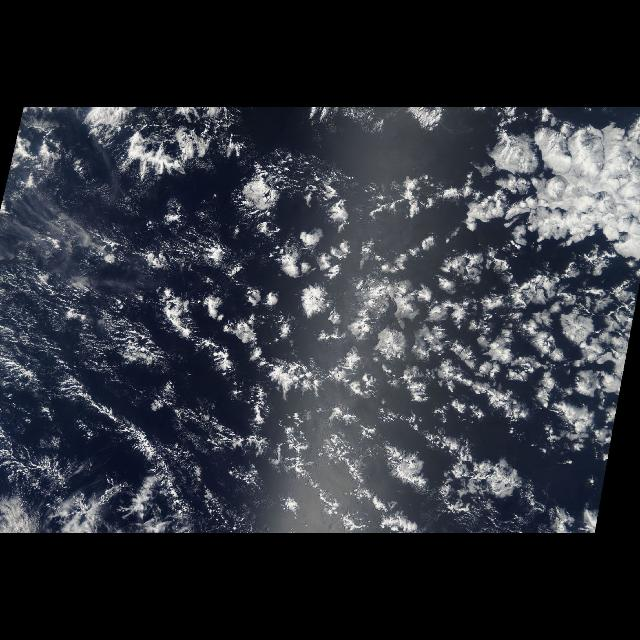Flower: (82, 148, 636, 506)
Gravel: (2, 232, 170, 450)
Sugar: (2, 185, 166, 458)
